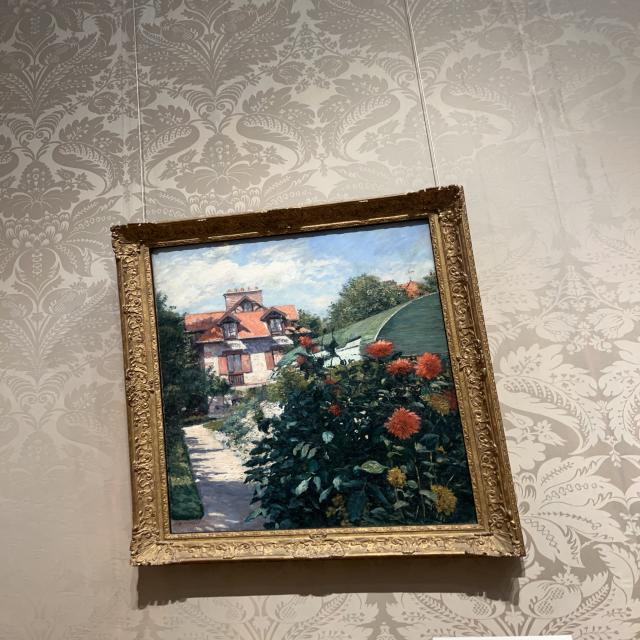summer: (155, 225, 474, 532)
